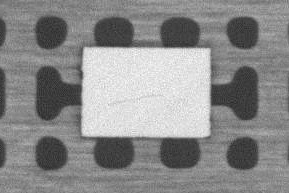DIE_CRACK: (106, 94, 164, 106)
